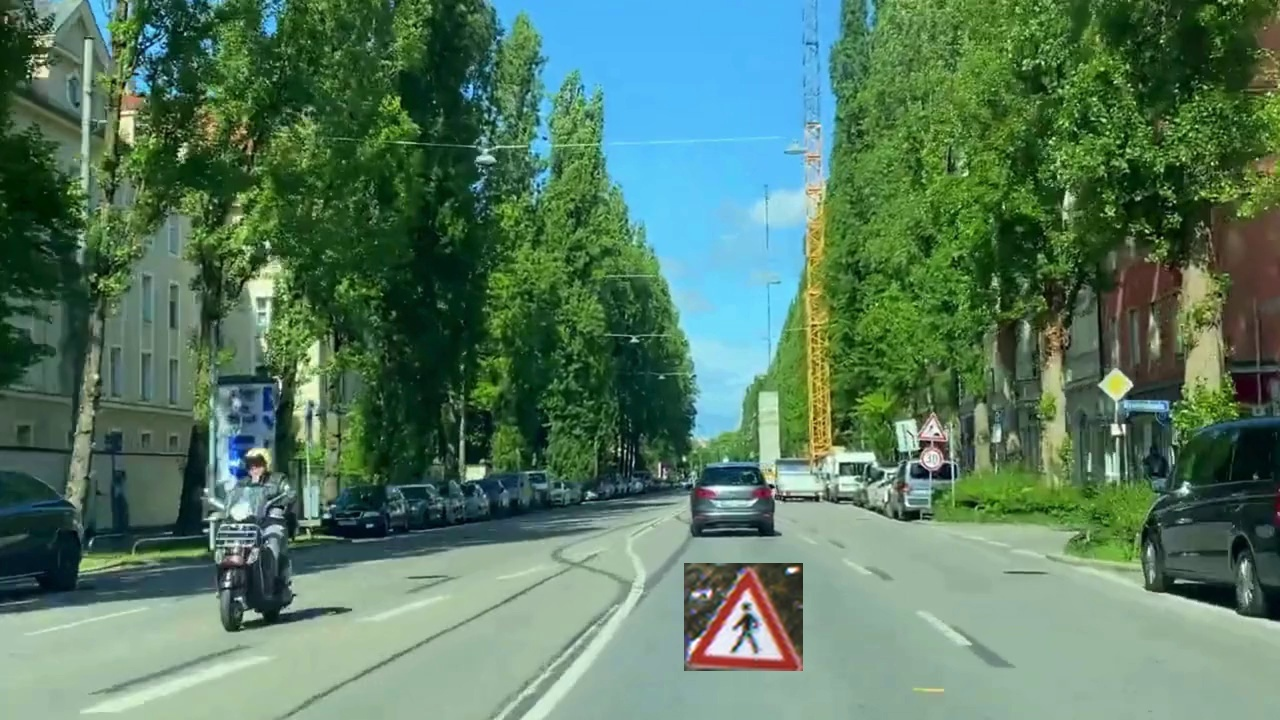Pedestrians: (684, 563, 803, 671)
